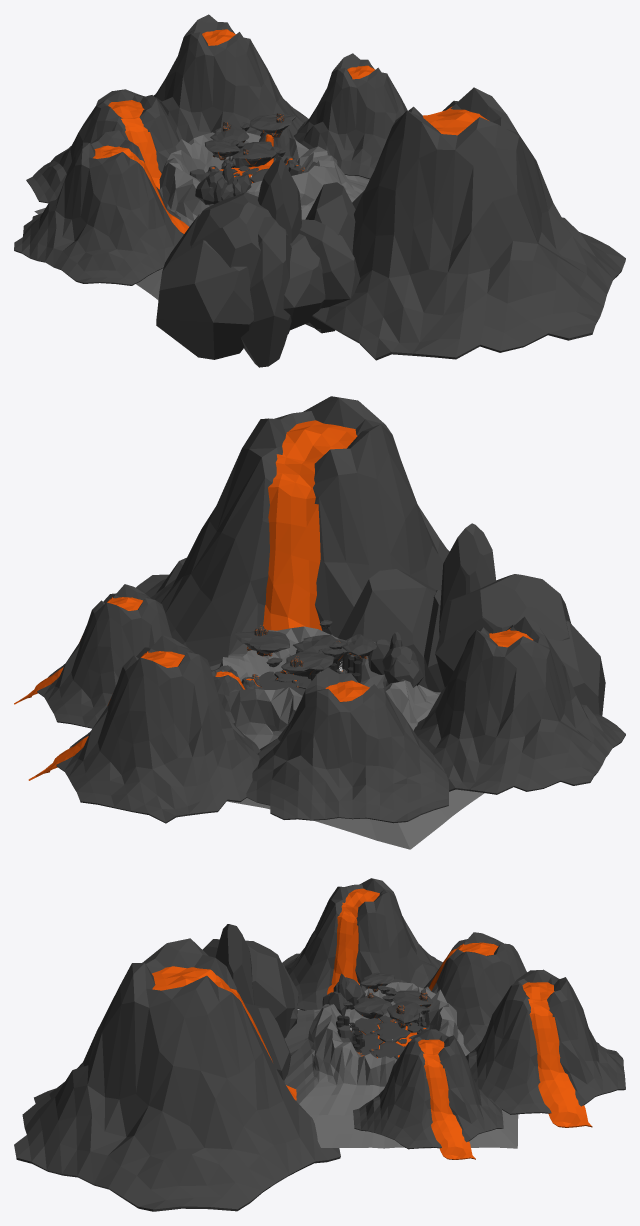
File: Map Level 2.fbx
3 renders of one model, top to bottom at view 1: azimuth 30°, elevation 25°; view 2: azimuth 150°, elevation 25°; view 3: azimuth 270°, elevation 25°, orthographic. The views are drawn at different scales.
Visible parts, largest first — view 1: Plane.142, Plane.143, Plane.141, Plane.126, Plane.127, Circle.002, Plane.125, Plane.123, Island.003, Island.002, Plane.017; view 2: Plane.142, Plane.126, Plane.141, Plane.125, Plane.143, Circle.002, Plane.127, Plane.123, Plane.017, Island.002, Island.001, Island.003; view 3: Plane.142, Plane.126, Circle.002, Plane.127, Plane.141, Plane.143, Plane.125, Plane.123, Island.003, L2 Platform.003, Island.002.
Boxes of the visible parts, <box> form: Plane.142: <box>312,87,625,360</box>; Plane.143: <box>156,156,360,367</box>; Plane.141: <box>14,130,188,285</box>; Plane.126: <box>153,14,308,142</box>; Plane.127: <box>294,53,407,179</box>; Circle.002: <box>34,132,369,300</box>; Plane.125: <box>26,89,179,203</box>; Plane.123: <box>195,163,251,204</box>; Island.003: <box>235,141,276,166</box>; Island.002: <box>249,113,296,134</box>; Plane.017: <box>259,127,296,165</box>; Plane.142: <box>136,396,449,666</box>; Plane.126: <box>28,635,260,823</box>; Plane.141: <box>414,616,625,794</box>; Plane.125: <box>246,667,448,823</box>; Plane.143: <box>338,523,605,715</box>; Circle.002: <box>210,626,484,849</box>; Plane.127: <box>14,584,172,728</box>; Plane.123: <box>368,632,423,687</box>; Plane.017: <box>211,665,247,723</box>; Island.002: <box>235,630,289,653</box>; Island.001: <box>281,650,333,676</box>; Island.003: <box>293,635,348,663</box>; Plane.142: <box>14,938,340,1211</box>; Plane.126: <box>465,969,625,1127</box>; Circle.002: <box>284,982,518,1148</box>; Plane.127: <box>353,1029,503,1159</box>; Plane.141: <box>282,878,442,1010</box>; Plane.143: <box>202,924,298,1080</box>; Plane.125: <box>424,932,527,1052</box>; Plane.123: <box>322,973,365,1016</box>; Island.003: <box>353,995,391,1018</box>; L2 Platform.003: <box>376,1015,410,1042</box>; Island.002: <box>387,1001,423,1024</box>.
Size of the model in its own units: 112473 by 51156 by 126042.
